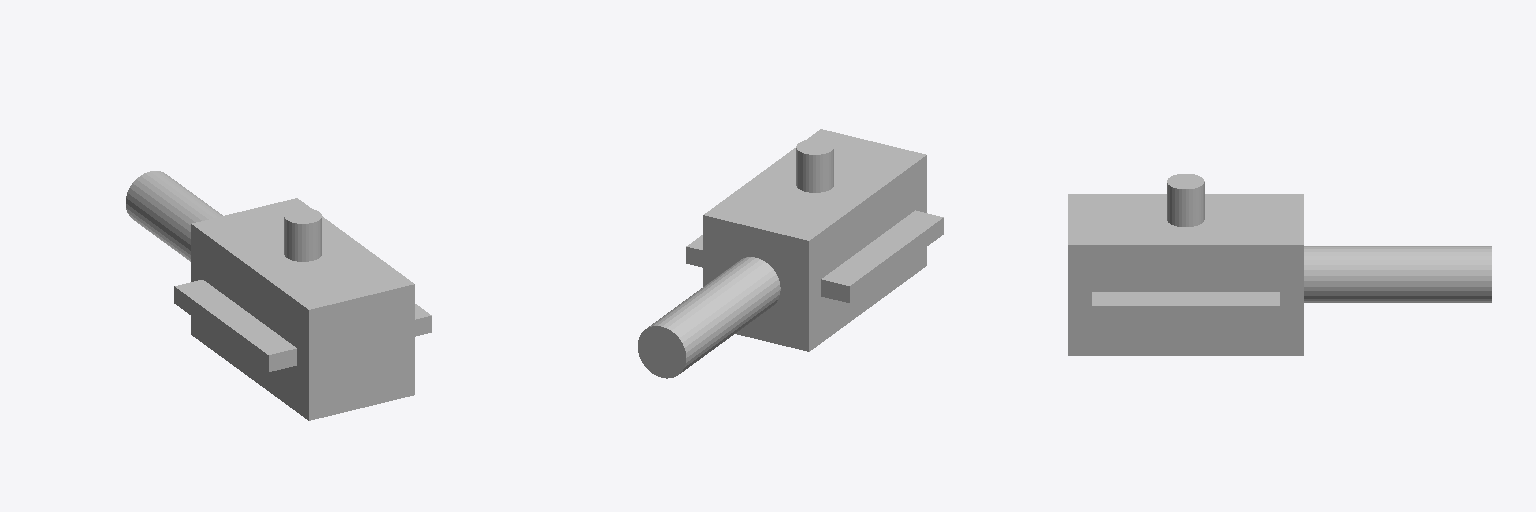
File: machine_gun_turret.obj
3 views of the same model, side by side, from view 1: azimuth 30°, elevation 25°; view 2: azimuth 150°, elevation 25°; view 3: azimuth 270°, elevation 25° (orthographic).
Parts seen in each view (by area): view 1: Cube.001, Cube; view 2: Cube.001, Cube; view 3: Cube.001, Cube.
Boxes of the visible parts, x1=… form: Cube.001: x1=126, y1=171, x2=414, y2=420; Cube: x1=174, y1=208, x2=431, y2=371; Cube.001: x1=638, y1=129, x2=926, y2=378; Cube: x1=686, y1=139, x2=943, y2=302; Cube.001: x1=1068, y1=194, x2=1491, y2=355; Cube: x1=1092, y1=174, x2=1279, y2=322.
Size of the model in its own units: 2 by 1.74 by 4.5.